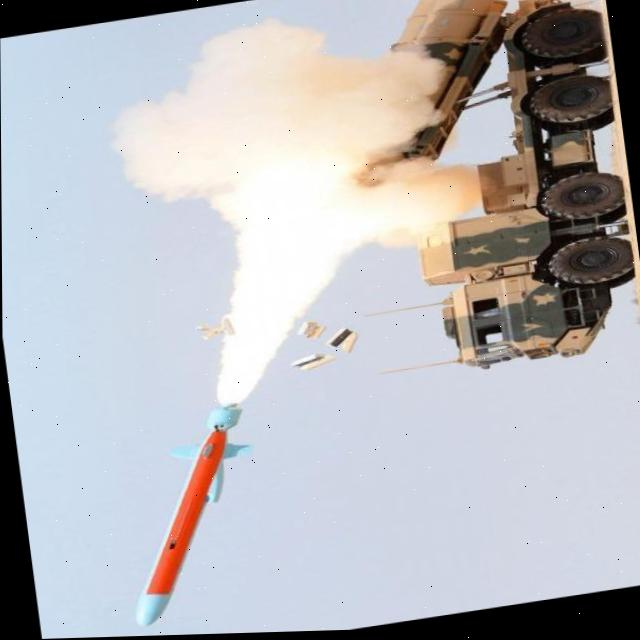missile: (108, 399, 269, 638)
